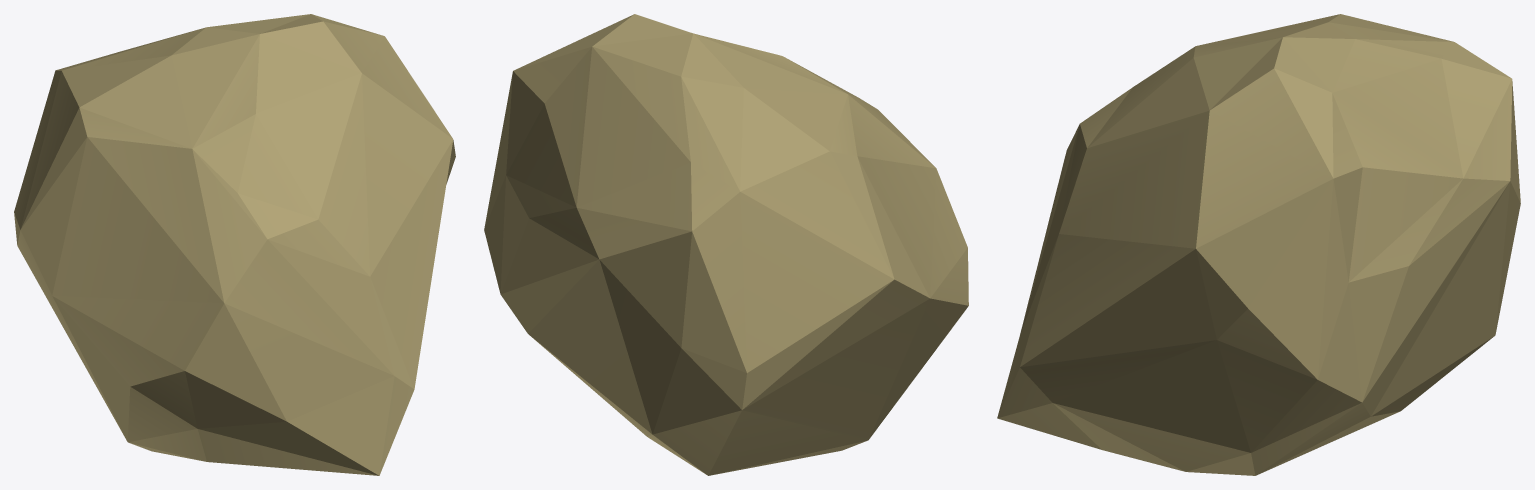
The model's file is SM_small_rock_03.fbx.
3 renders of one model, left to right at view 1: azimuth 30°, elevation 25°; view 2: azimuth 150°, elevation 25°; view 3: azimuth 270°, elevation 25°, orthographic. The views are drawn at different scales.
Visible parts, largest first — view 1: small_rock_03; view 2: small_rock_03; view 3: small_rock_03.
Part boxes in pixels (bbox=[...]): small_rock_03: bbox=[14, 14, 455, 475]; small_rock_03: bbox=[484, 14, 968, 475]; small_rock_03: bbox=[997, 14, 1520, 475].
Bounding box in the file's own units: 33.35 × 30.99 × 34.12.
